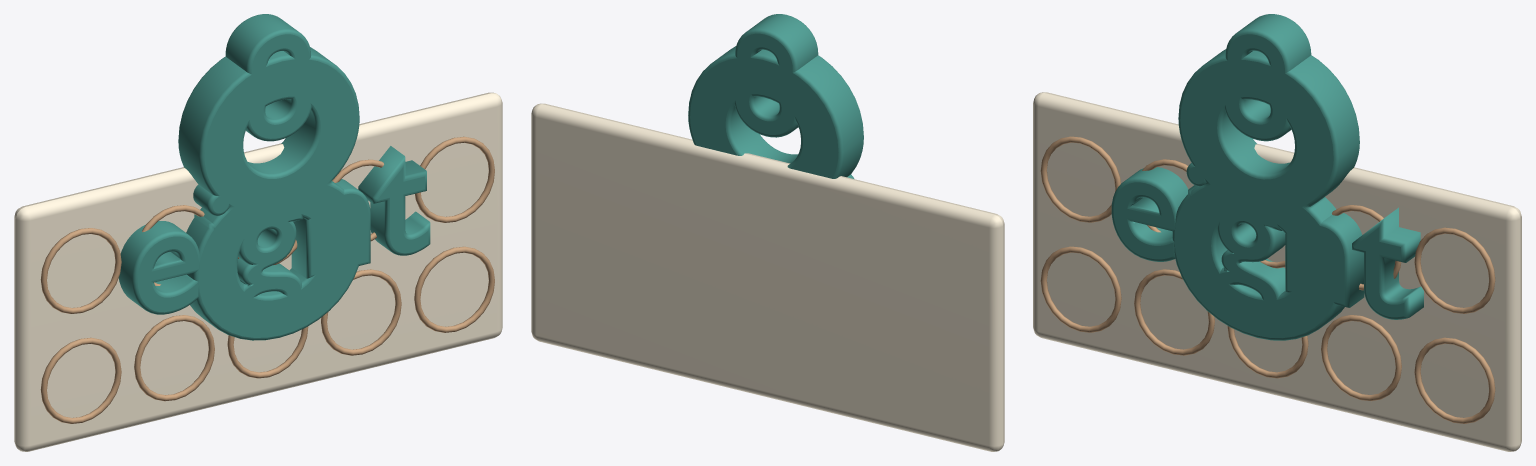
File: number-8.glb
3 views of the same model, side by side, from view 1: azimuth 30°, elevation 25°; view 2: azimuth 150°, elevation 25°; view 3: azimuth 330°, elevation 25° (orthographic). The views are drawn at different scales.
Visible parts, largest first — view 1: ten frame tray, number solid, number word, counting numeral, counting slot.005, counting slot.009, counting slot.006, counting slot, counting slot.004, counting slot.008, counting slot.007, counting slot.001; view 2: ten frame tray, number solid, counting numeral; view 3: ten frame tray, number solid, number word, counting numeral, counting slot.008, counting slot.009, counting slot.004, counting slot.005, counting slot, counting slot.006, counting slot.007, counting slot.003.
Part boxes in pixels (x1=…): ten frame tray: x1=14, y1=92, x2=502, y2=451; number solid: x1=178, y1=47, x2=361, y2=340; number word: x1=118, y1=146, x2=430, y2=321; counting numeral: x1=225, y1=14, x2=311, y2=141; counting slot.005: x1=40, y1=337, x2=121, y2=423; counting slot.009: x1=414, y1=246, x2=494, y2=332; counting slot.006: x1=134, y1=315, x2=214, y2=401; counting slot: x1=40, y1=228, x2=121, y2=313; counting slot.004: x1=415, y1=136, x2=494, y2=222; counting slot.008: x1=321, y1=269, x2=401, y2=355; counting slot.007: x1=227, y1=326, x2=308, y2=378; counting slot.001: x1=142, y1=205, x2=204, y2=285; ten frame tray: x1=531, y1=103, x2=1004, y2=451; number solid: x1=688, y1=46, x2=863, y2=178; counting numeral: x1=734, y1=14, x2=818, y2=137; ten frame tray: x1=1033, y1=92, x2=1521, y2=451; number solid: x1=1172, y1=49, x2=1359, y2=340; number word: x1=1111, y1=163, x2=1423, y2=319; counting numeral: x1=1225, y1=14, x2=1311, y2=141; counting slot.008: x1=1321, y1=315, x2=1401, y2=401; counting slot.009: x1=1414, y1=337, x2=1495, y2=423; counting slot.004: x1=1414, y1=227, x2=1495, y2=313; counting slot.005: x1=1040, y1=246, x2=1121, y2=332; counting slot: x1=1040, y1=136, x2=1120, y2=222; counting slot.006: x1=1134, y1=269, x2=1214, y2=355; counting slot.007: x1=1227, y1=326, x2=1308, y2=378; counting slot.003: x1=1332, y1=205, x2=1401, y2=290.
Size of what is drawn, in the model's own units: 2.08 by 1.55 by 0.2.
